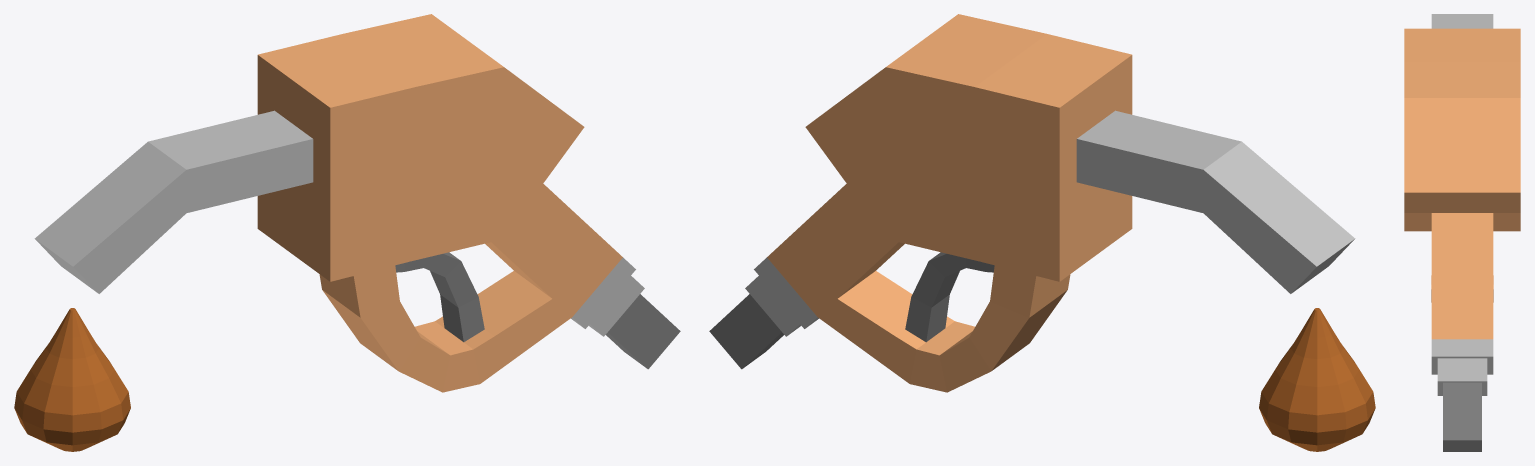
The model's file is gas_tank_orange.fbx.
3 views of the same model, side by side, from view 1: azimuth 30°, elevation 25°; view 2: azimuth 150°, elevation 25°; view 3: azimuth 270°, elevation 25° (orthographic). The views are drawn at different scales.
Parts seen in each view (by area): view 1: gas_icon, gas_drop; view 2: gas_icon, gas_drop; view 3: gas_icon.
Part boxes in pixels (x1,y1,x2,y2): gas_icon: [34, 14, 680, 392]; gas_drop: [14, 308, 130, 451]; gas_icon: [709, 14, 1355, 392]; gas_drop: [1259, 308, 1375, 451]; gas_icon: [1404, 14, 1520, 451].
Size of the model in its own units: 408 by 219 by 79.41.
